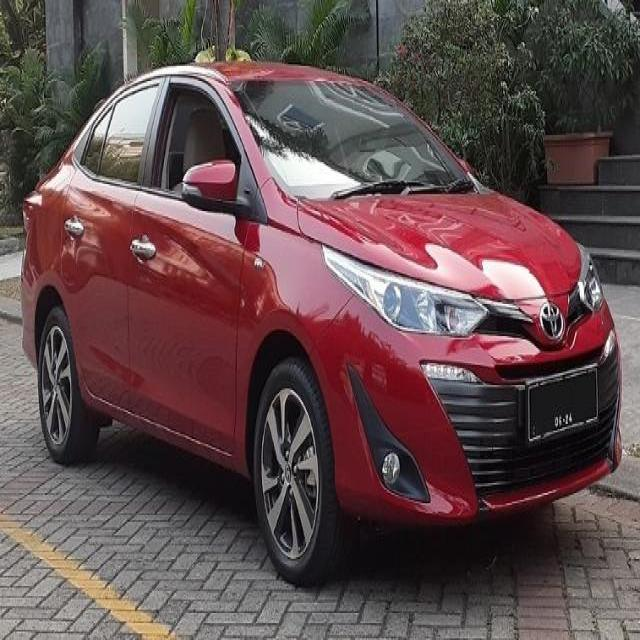ToyotaVios: (19, 58, 623, 588)
